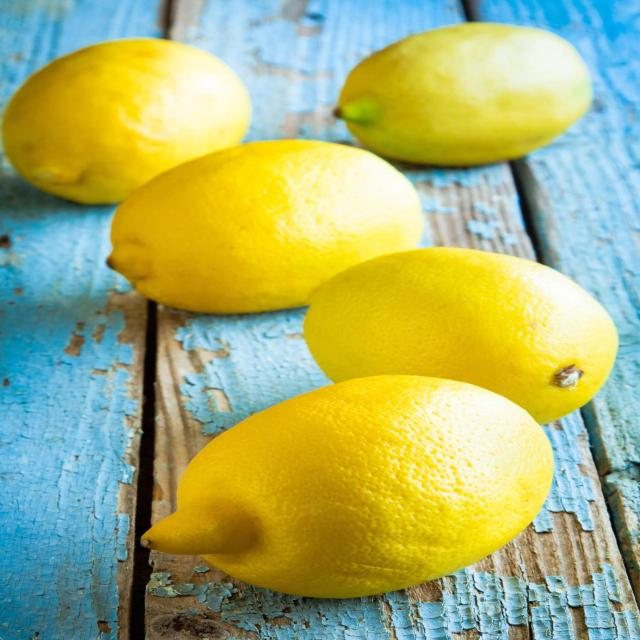lemon: (120, 366, 561, 602), (292, 241, 630, 424)
